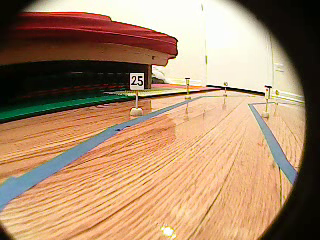Red Traffic Light: (264, 85, 271, 100)
Speed Limit 25: (130, 72, 146, 91)
